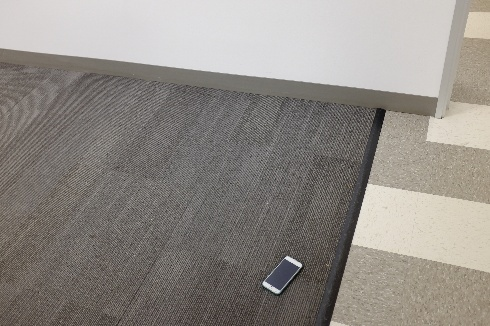phone: (259, 259, 308, 291)
